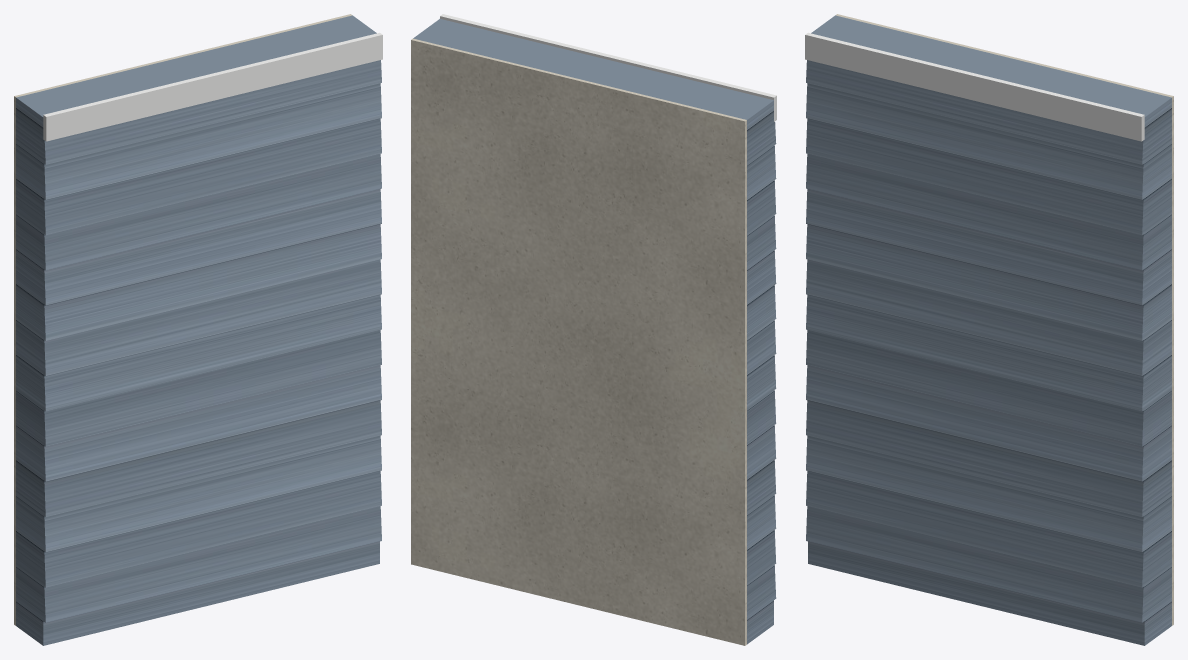
File: wall_siding_plain.glb
3 renders of one model, left to right at view 1: azimuth 30°, elevation 25°; view 2: azimuth 150°, elevation 25°; view 3: azimuth 330°, elevation 25°, orthographic.
Parts seen in each view (by area): view 1: wall_siding_plain_siding, wall_siding_plain_trim, wall_siding_plain_plaster; view 2: wall_siding_plain_plaster, wall_siding_plain_siding, wall_siding_plain_trim; view 3: wall_siding_plain_siding, wall_siding_plain_trim, wall_siding_plain_plaster.
Boxes of the visible parts, x1,y1,x2,y2 form: wall_siding_plain_siding: [16, 15, 381, 645]; wall_siding_plain_trim: [43, 32, 382, 141]; wall_siding_plain_plaster: [14, 14, 352, 625]; wall_siding_plain_plaster: [411, 38, 746, 645]; wall_siding_plain_siding: [413, 19, 776, 644]; wall_siding_plain_trim: [440, 14, 776, 121]; wall_siding_plain_siding: [806, 15, 1171, 645]; wall_siding_plain_trim: [805, 32, 1144, 141]; wall_siding_plain_plaster: [835, 14, 1173, 625].
Size of the model in its own units: 2 by 3.02 by 0.33.
Materials: 3 (2 with a texture image).
